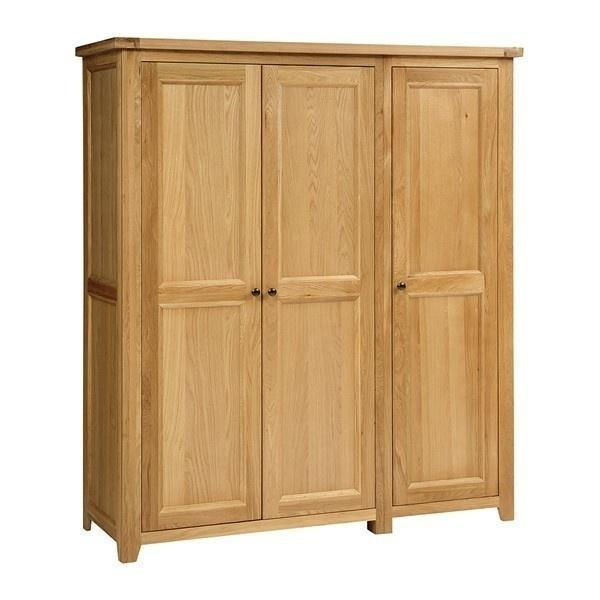Armario: (74, 32, 517, 551)
